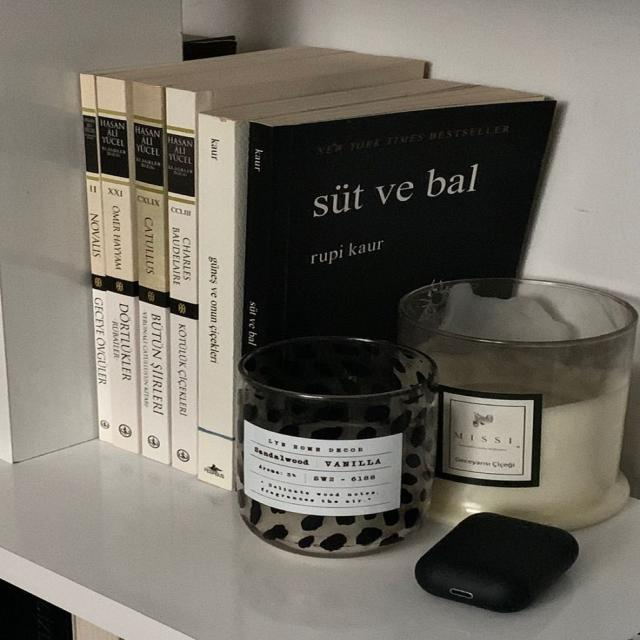book: (98, 76, 136, 451), (135, 83, 170, 462), (201, 114, 236, 488), (165, 86, 198, 475), (80, 75, 110, 441), (247, 120, 271, 353)
candle: (399, 280, 637, 530), (239, 339, 436, 555)
